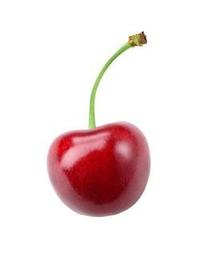cherry: (46, 121, 151, 217)
